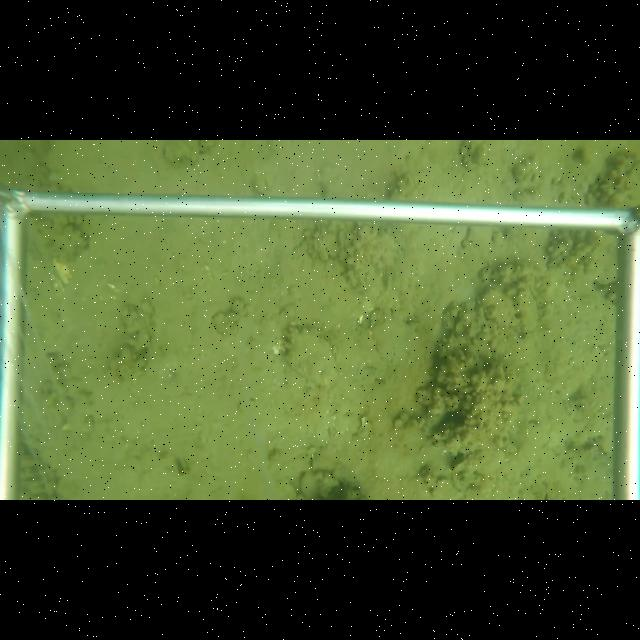Oyster-Closed: (282, 325, 339, 390)
